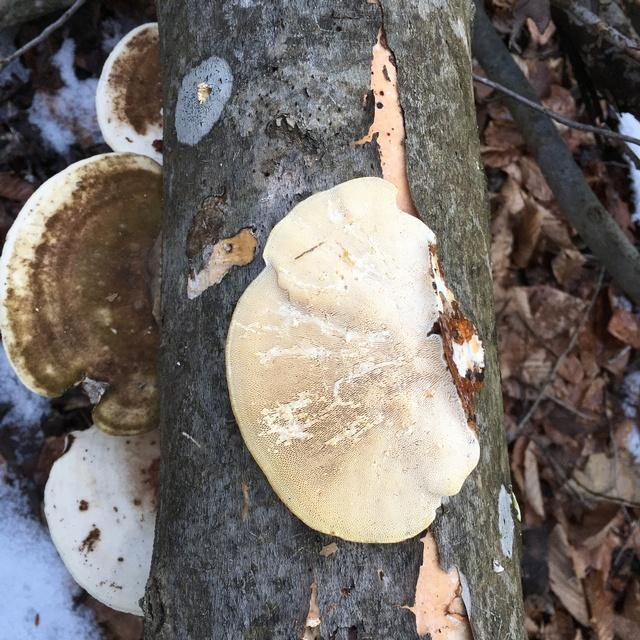Non-edible Mushroom: (3, 8, 228, 627), (223, 174, 483, 544)
